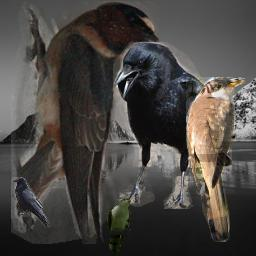Crow: (113, 42, 232, 209), (12, 177, 51, 228)
Cuckoo: (186, 77, 245, 242), (107, 197, 131, 254)
Swallow: (11, 1, 159, 244)
